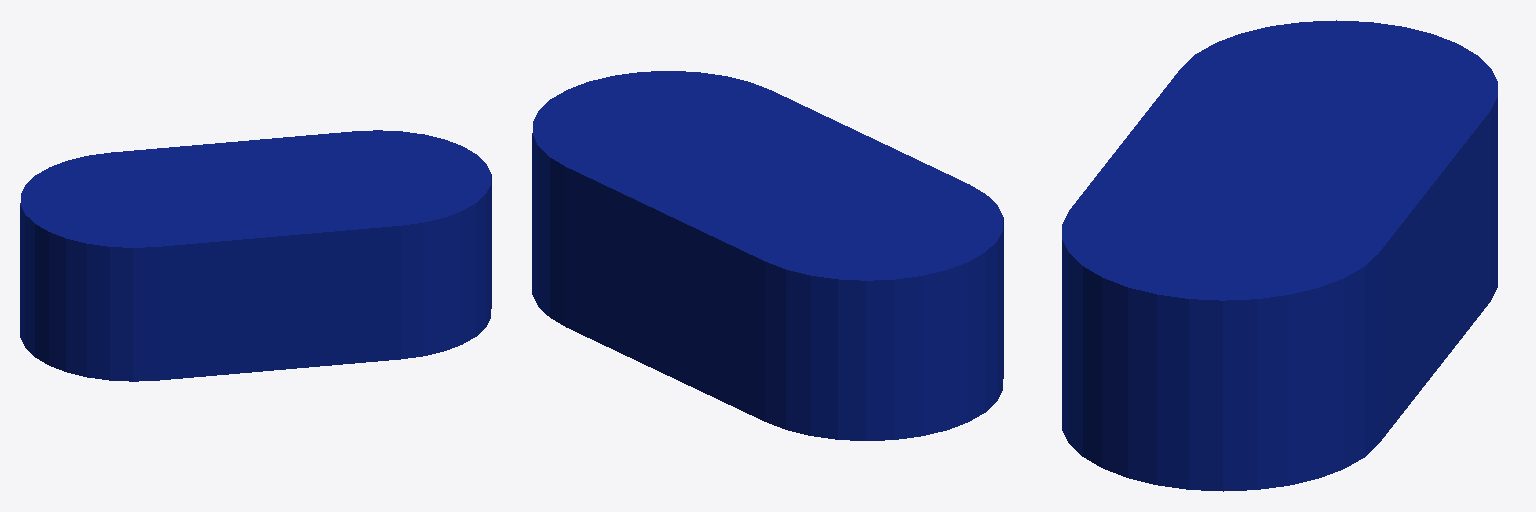
The robot description file, URDF, robot "block":
<robot name="block">
  <link name="block_base_link">

    <inertial>
      <origin rpy="0 0 0" xyz="0.01597 -0.01764 0.015"/>
      <mass value="0.05"/>
      <inertia ixx="3.4529e-05" ixy="-1.7993e-05" ixz="0.0" iyy="8.2798e-05" iyz="0.0" izz="9.9147e-05"/>
    </inertial>
    <collision>
      
      <geometry>
        <mesh filename="24.STL" scale="1 1 1"/>
      </geometry>
    </collision>
    <visual>
 
      <geometry>
        <mesh filename="24.STL" scale="1 1 1"/>
      </geometry>
      <material name="tray_material">
        <color rgba="0.1 0.2 0.6 1"/>
      </material>
    </visual>
  </link>
</robot>

--- What the picture shows (computed from the rendered views, not written in the file) ---
3 views of the same robot in one strip: view 1: azimuth 30°, elevation 25°; view 2: azimuth 150°, elevation 25°; view 3: azimuth 270°, elevation 25° (orthographic).
Model block with 1 links and 0 joints (none), rooted at block_base_link, posed every joint at zero.
Visible links, largest first — view 1: block_base_link; view 2: block_base_link; view 3: block_base_link.
Boxes of the visible links, bbox=[...] form: block_base_link: bbox=[20, 130, 491, 381]; block_base_link: bbox=[532, 71, 1003, 440]; block_base_link: bbox=[1062, 20, 1497, 491].
Size in the robot's own frame: 0.0945 by 0.0621 by 0.03 metres.
Meshes: 1 distinct files referenced, 1 mesh visuals loaded (1 binary STL).